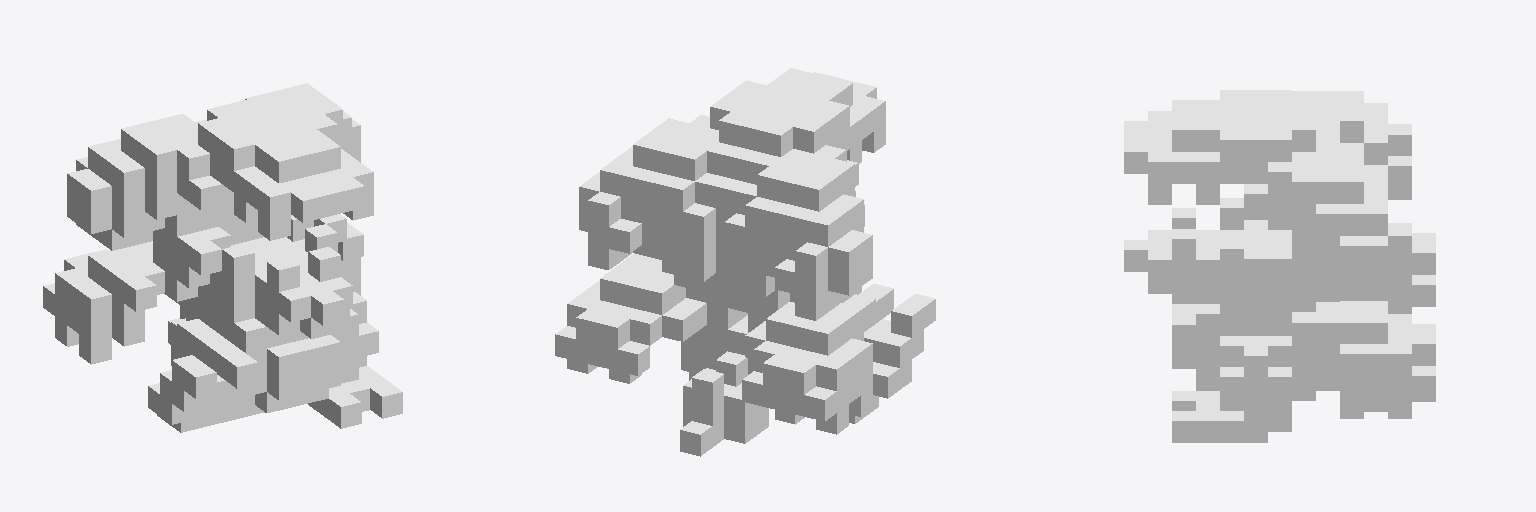
File: FygarWalk1Cardinal.obj
3 renders of one model, left to right at view 1: azimuth 30°, elevation 25°; view 2: azimuth 150°, elevation 25°; view 3: azimuth 270°, elevation 25°, orthographic.
Visible parts, largest first — view 1: Fygar; view 2: Fygar; view 3: Fygar.
Boxes of the visible parts, box(x1,y1,x2,y2) form: Fygar: box(43, 83, 402, 432); Fygar: box(555, 68, 935, 456); Fygar: box(1124, 90, 1435, 442).
Size of the model in its own units: 1.3 by 1.3 by 1.3.